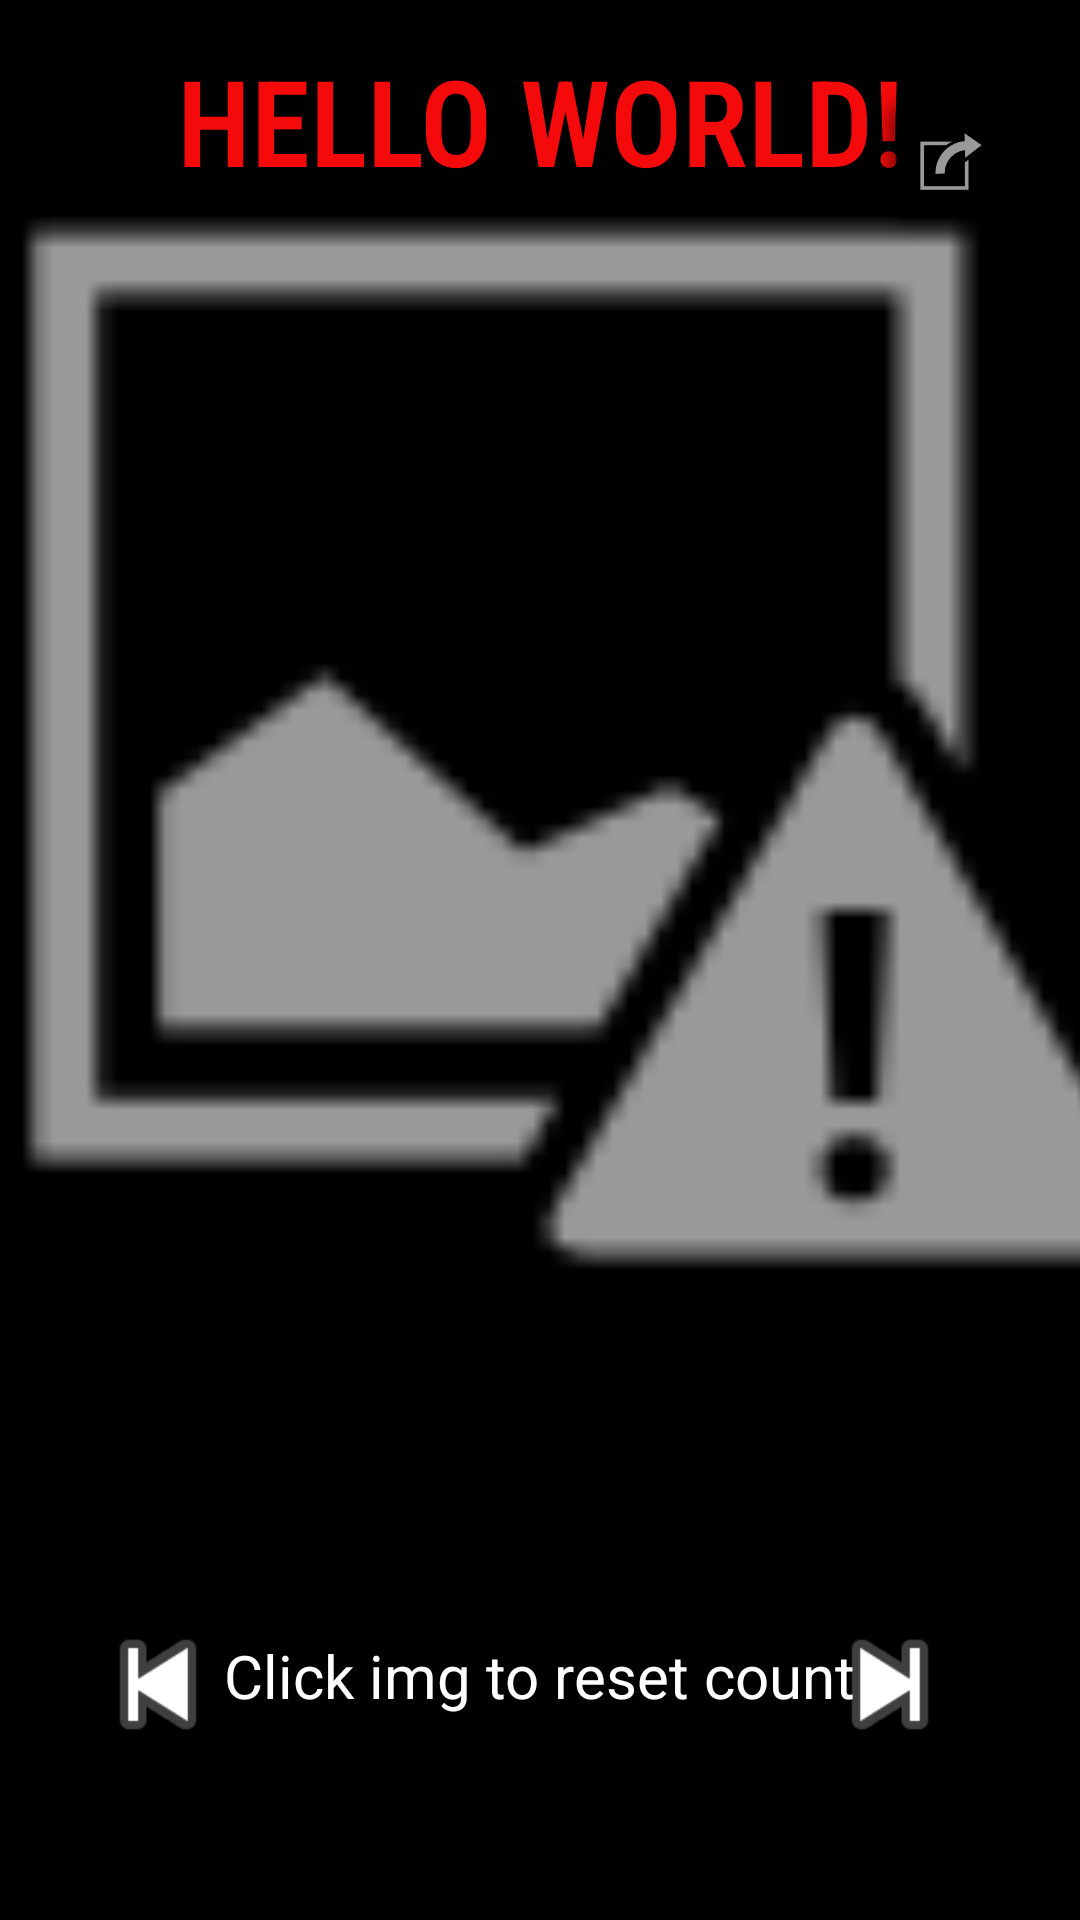

Named icons in this screenshot (1080w x 1920h) and their bounding boxes, bbox(x1, y1, x2, y2):
previous: bbox(120, 1640, 196, 1729)
